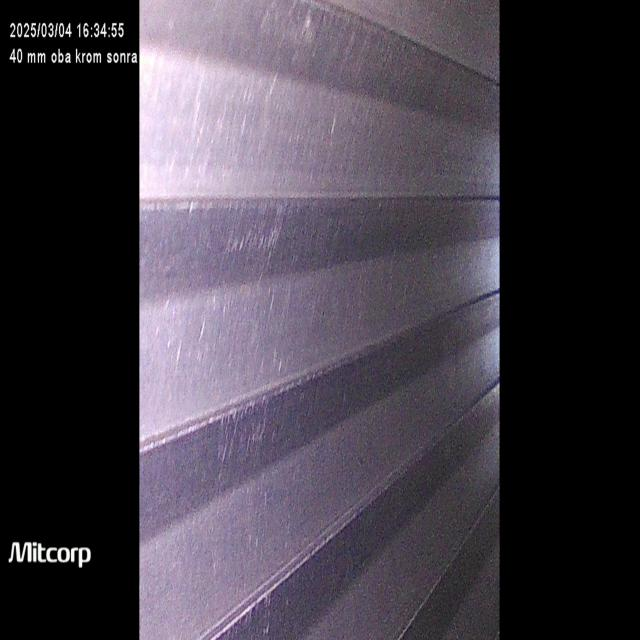hata_8.1: (166, 49, 279, 200), (182, 215, 299, 303), (188, 319, 296, 383), (222, 550, 292, 640), (214, 392, 281, 484), (205, 488, 294, 542)
